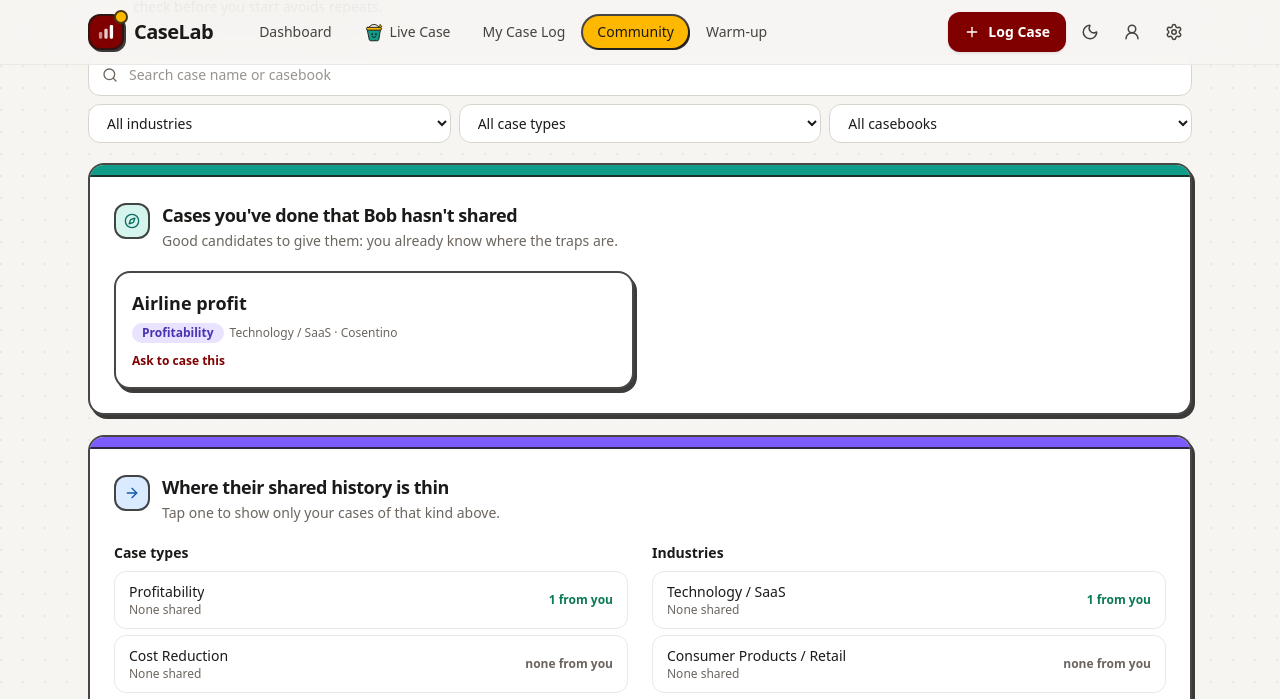
it: asking someone to case › offers to ask them to case one of the cases you have done, with it filled in
The image size is (1280, 699).
(page scrolled)
Click the button "Ask to case this".
click(178, 360)  # box [132, 352, 225, 368]
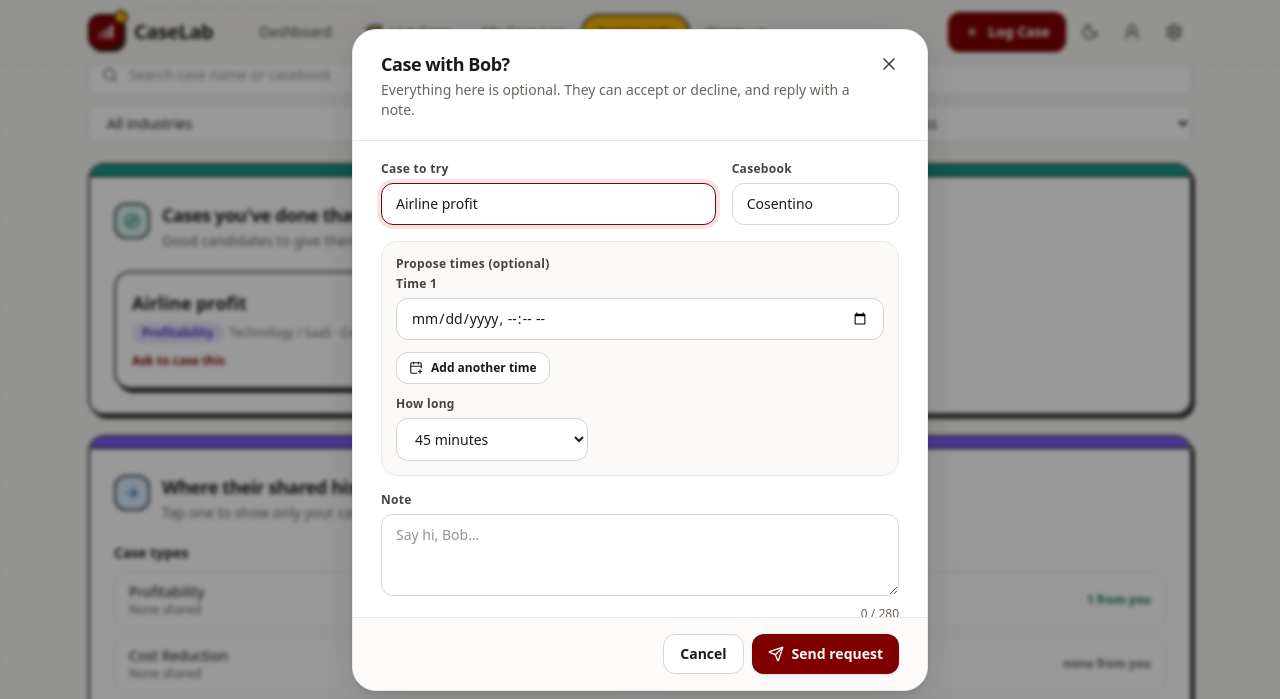
Now the field labelled "Case to try" holds "Airline profit", box [381, 183, 716, 225]
Now the field labelled "Casebook" holds "Cosentino", box [732, 183, 899, 225]
